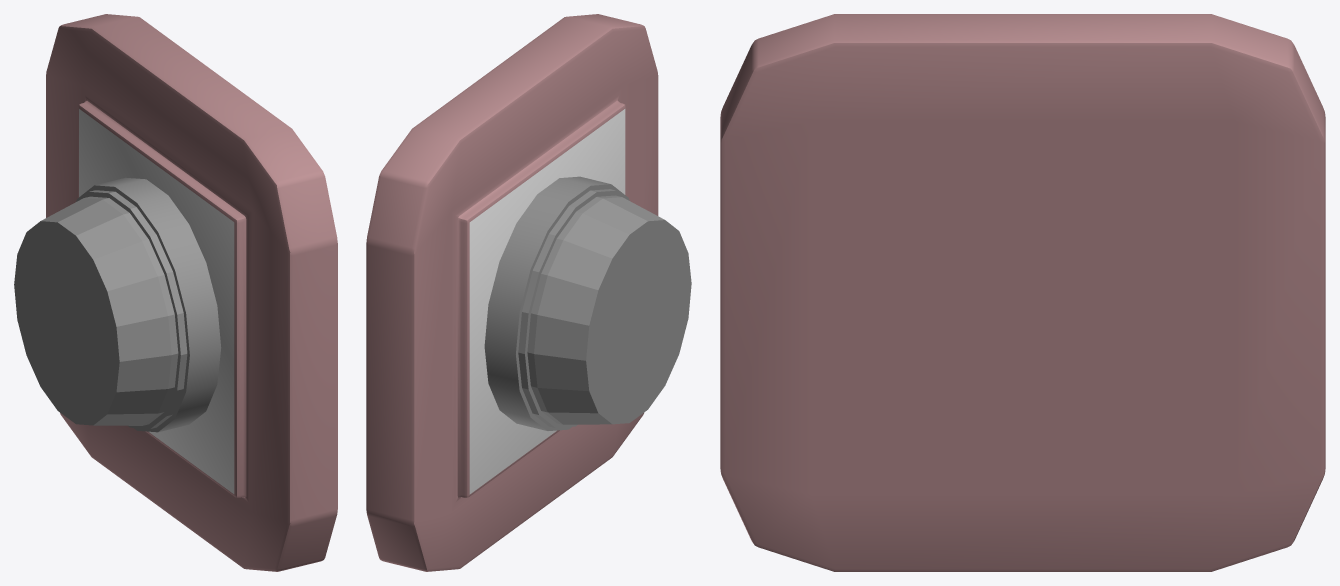
Rendered from bouton des portes.FBX.
3 renders of one model, left to right at view 1: azimuth 30°, elevation 25°; view 2: azimuth 150°, elevation 25°; view 3: azimuth 270°, elevation 25°, orthographic. The views are drawn at different scales.
Parts seen in each view (by area): view 1: Box005; view 2: Box005; view 3: Box005.
Part boxes in pixels (x1,y1,x2,y2): Box005: (14,14,337,571); Box005: (366,14,691,571); Box005: (720,14,1325,571).
Size of the model in its own units: 14.64 by 39.96 by 41.24.
